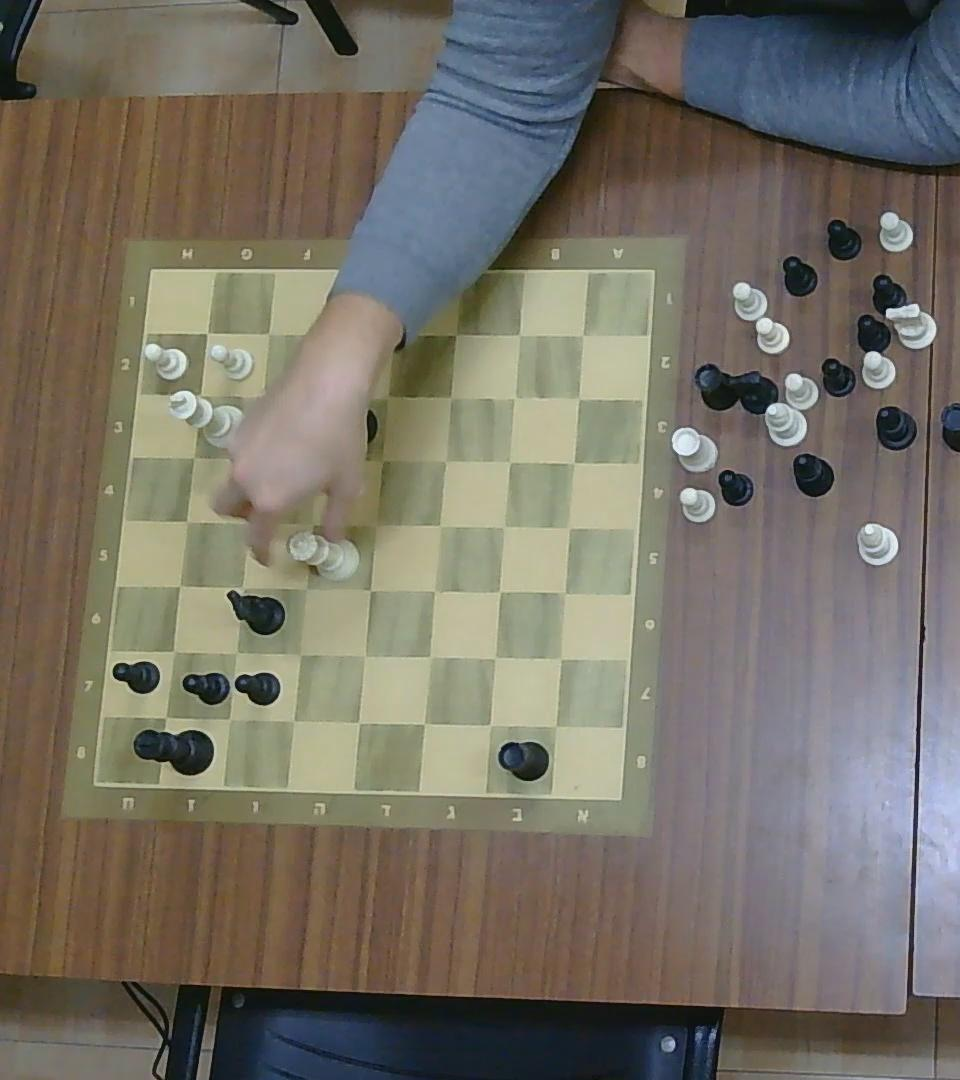xcorner: (215, 704, 242, 733), (417, 642, 443, 669), (411, 710, 437, 737), (153, 703, 179, 730), (247, 386, 273, 413), (378, 321, 403, 349), (477, 712, 503, 738), (167, 572, 192, 599), (352, 641, 377, 668), (280, 707, 305, 734), (161, 637, 186, 664), (543, 712, 568, 738), (186, 383, 211, 409), (346, 709, 371, 734), (481, 645, 506, 670), (486, 579, 511, 604), (174, 508, 198, 534), (421, 577, 445, 603), (358, 577, 382, 603), (181, 444, 205, 469), (229, 574, 253, 599), (244, 446, 268, 471), (288, 641, 311, 667), (308, 447, 331, 473), (491, 514, 515, 538), (552, 580, 576, 604), (223, 640, 246, 665), (427, 512, 450, 537), (376, 385, 399, 410), (444, 321, 467, 346), (294, 576, 317, 601), (313, 388, 335, 414), (316, 324, 338, 350), (558, 514, 581, 538), (438, 384, 461, 408), (549, 646, 573, 669), (364, 512, 387, 536), (240, 509, 263, 533), (433, 448, 455, 472), (196, 320, 218, 344), (371, 448, 393, 472), (498, 449, 520, 472), (302, 511, 324, 534), (508, 323, 530, 345), (258, 322, 279, 345), (563, 451, 584, 473), (503, 387, 524, 408), (572, 324, 592, 344), (570, 388, 589, 407)
